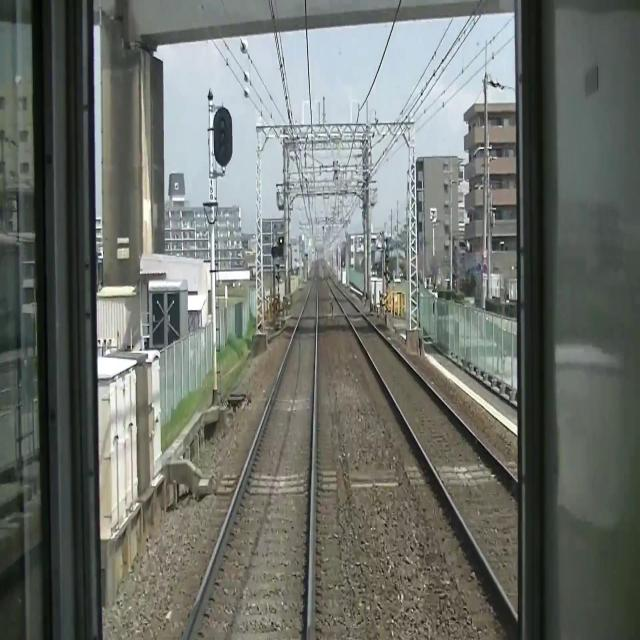rail-track: (327, 279, 516, 609), (192, 281, 317, 639)
